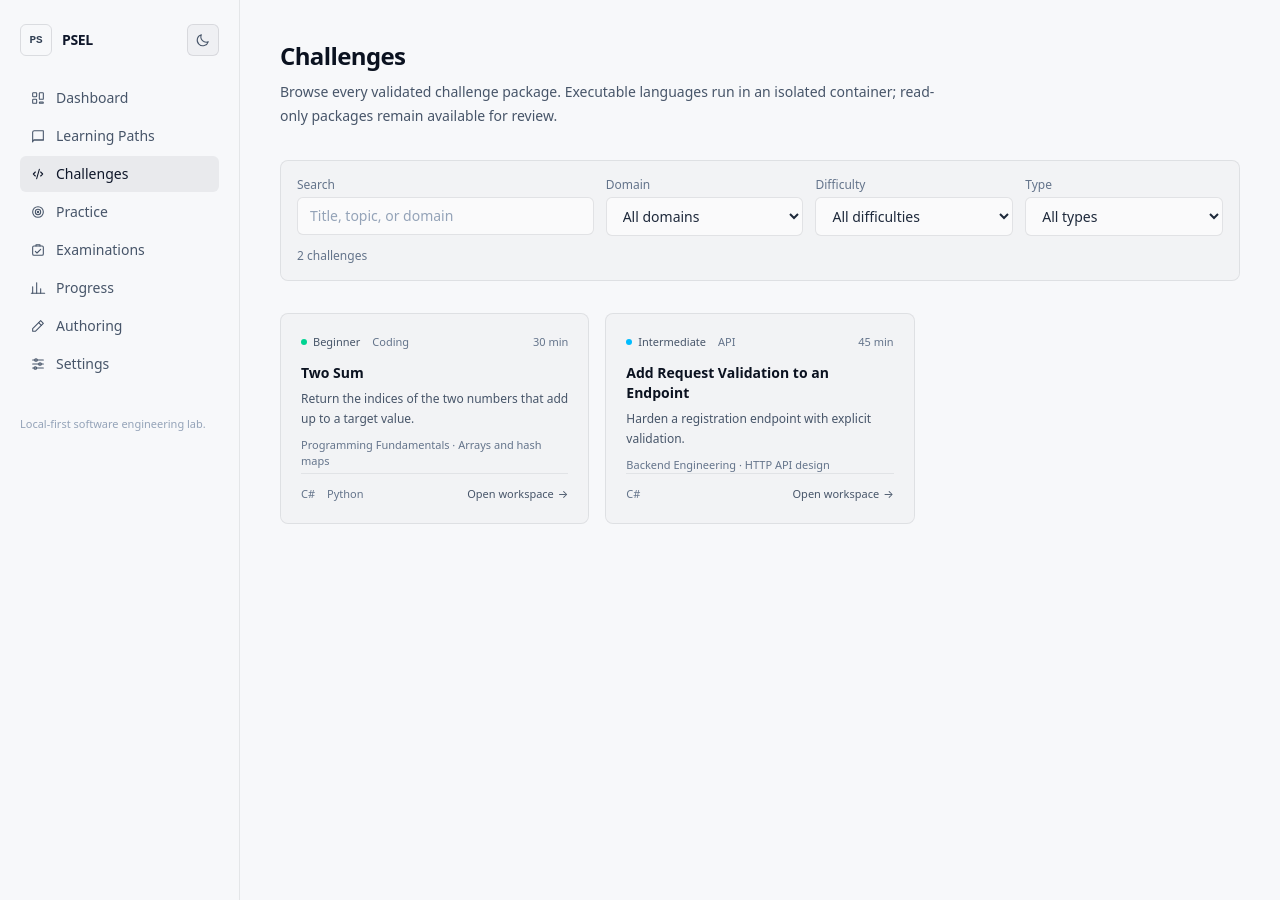
Test: ChallengesPage › shows an empty state when no challenge matches
Expected: the link "Two Sum" is shown, [280,313,589,524]
In the search field labelled "Search": (445, 216) [297,197,594,235], type "zzz"
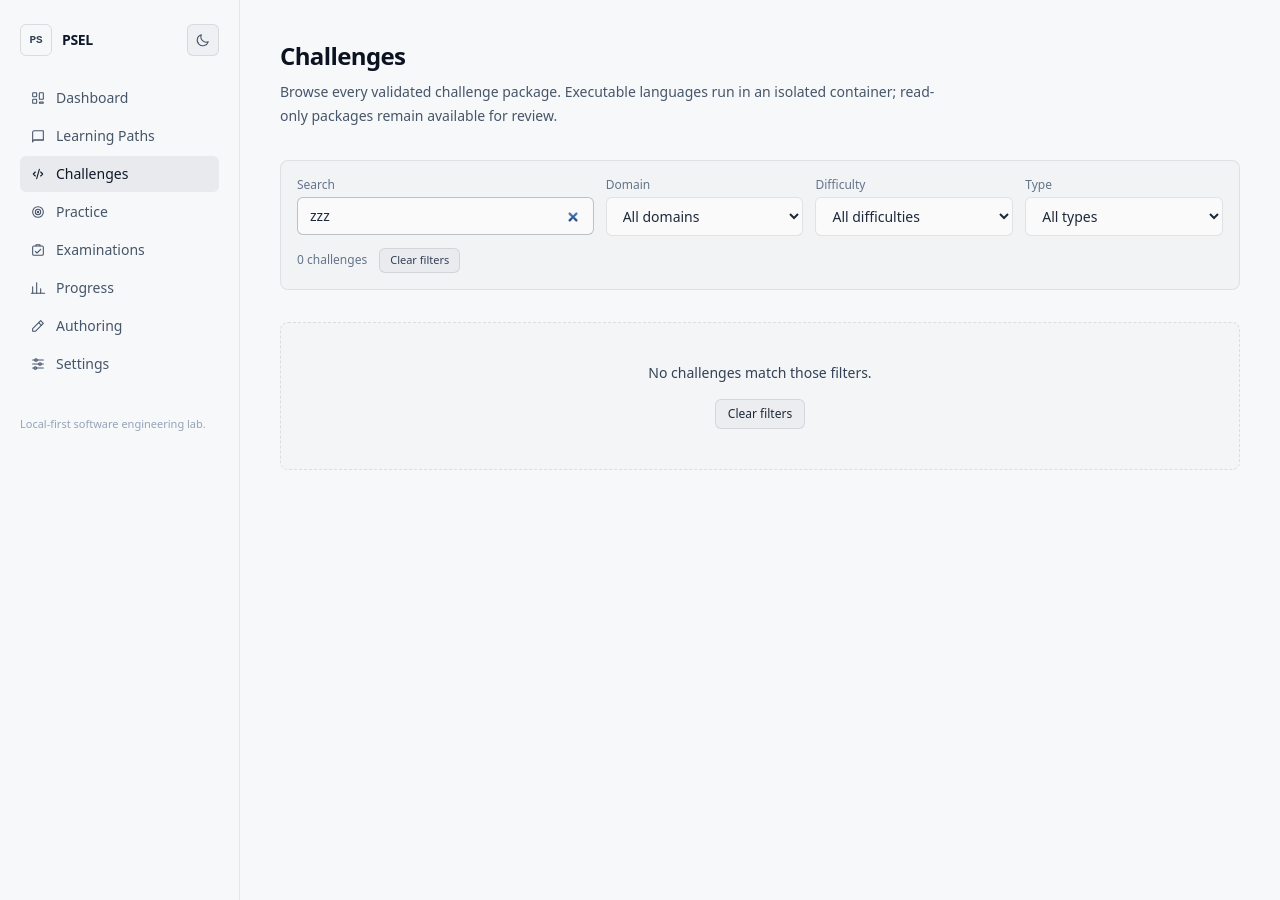
Expected: the text "No challenges match those filters." is shown, [648,363,872,382]
Expected: the link "Two Sum" is gone
